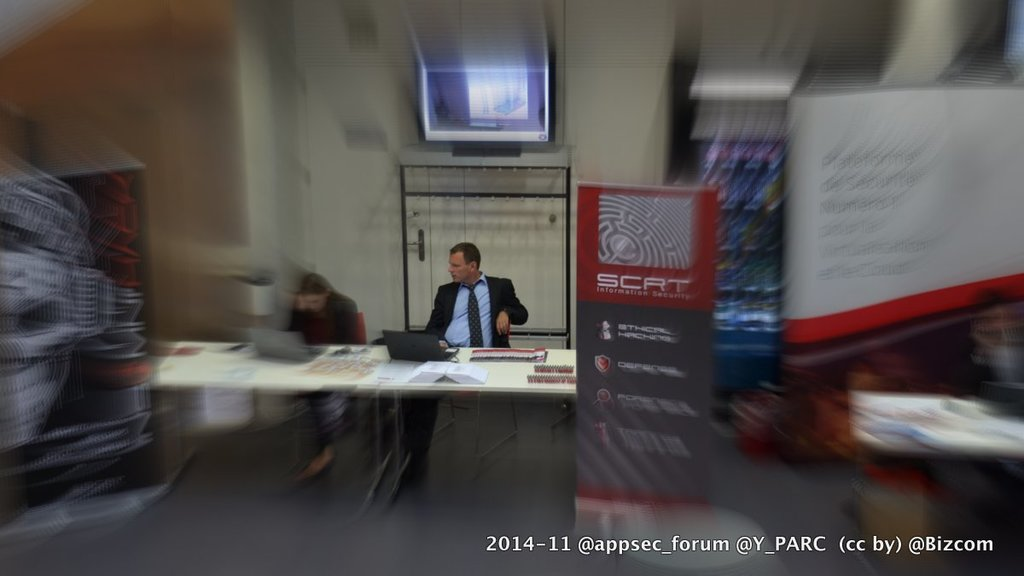Human_hand: (492, 307, 508, 333), (293, 297, 307, 313), (439, 340, 451, 350)
